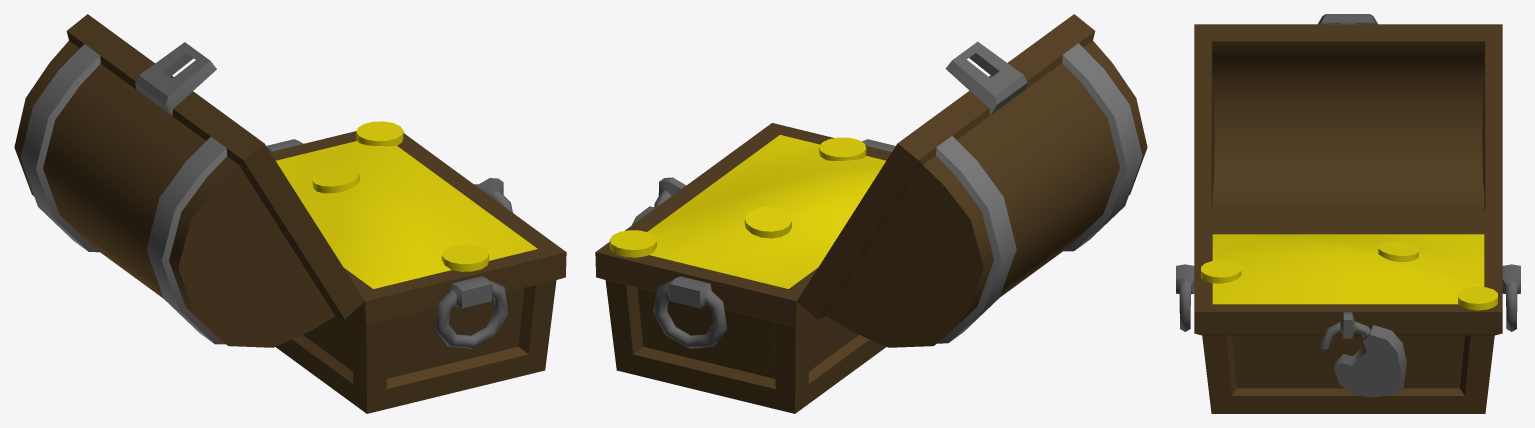
File: TreasureChest.fbx
The picture shows the model from 3 angles, left to right: view 1: azimuth 30°, elevation 25°; view 2: azimuth 150°, elevation 25°; view 3: azimuth 270°, elevation 25°; orthographic projection. The views are drawn at different scales.
Visible parts, largest first — view 1: TreasureChest; view 2: TreasureChest; view 3: TreasureChest.
Part boxes in pixels (x1,y1,x2,y2): TreasureChest: (14, 14, 566, 413); TreasureChest: (595, 14, 1147, 413); TreasureChest: (1176, 14, 1520, 413).
Bounding box in the file's own units: 1.15 × 0.8612 × 0.9433.
